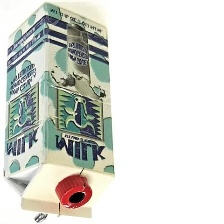carton: (0, 0, 116, 220)
